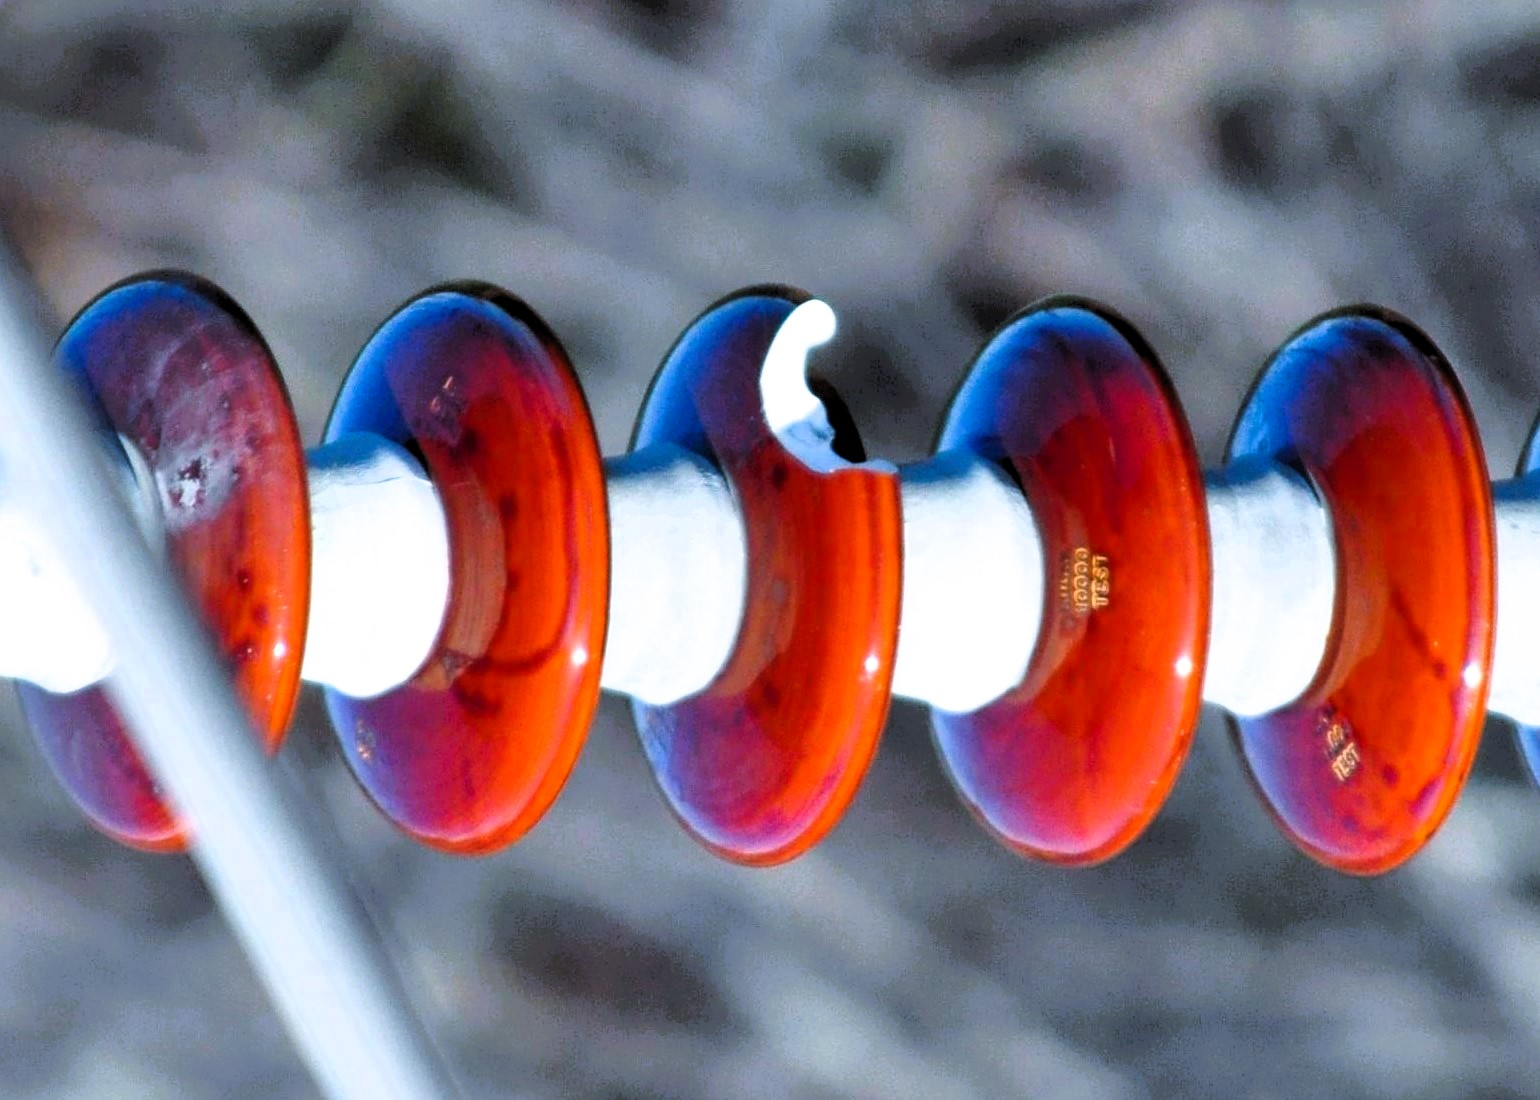insulator breakage: (634, 265, 908, 879)
